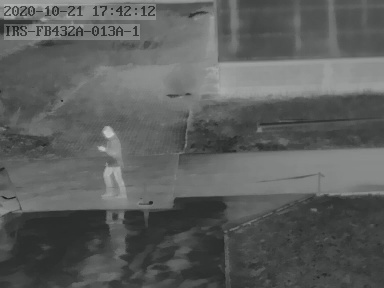person: (96, 125, 127, 200)
